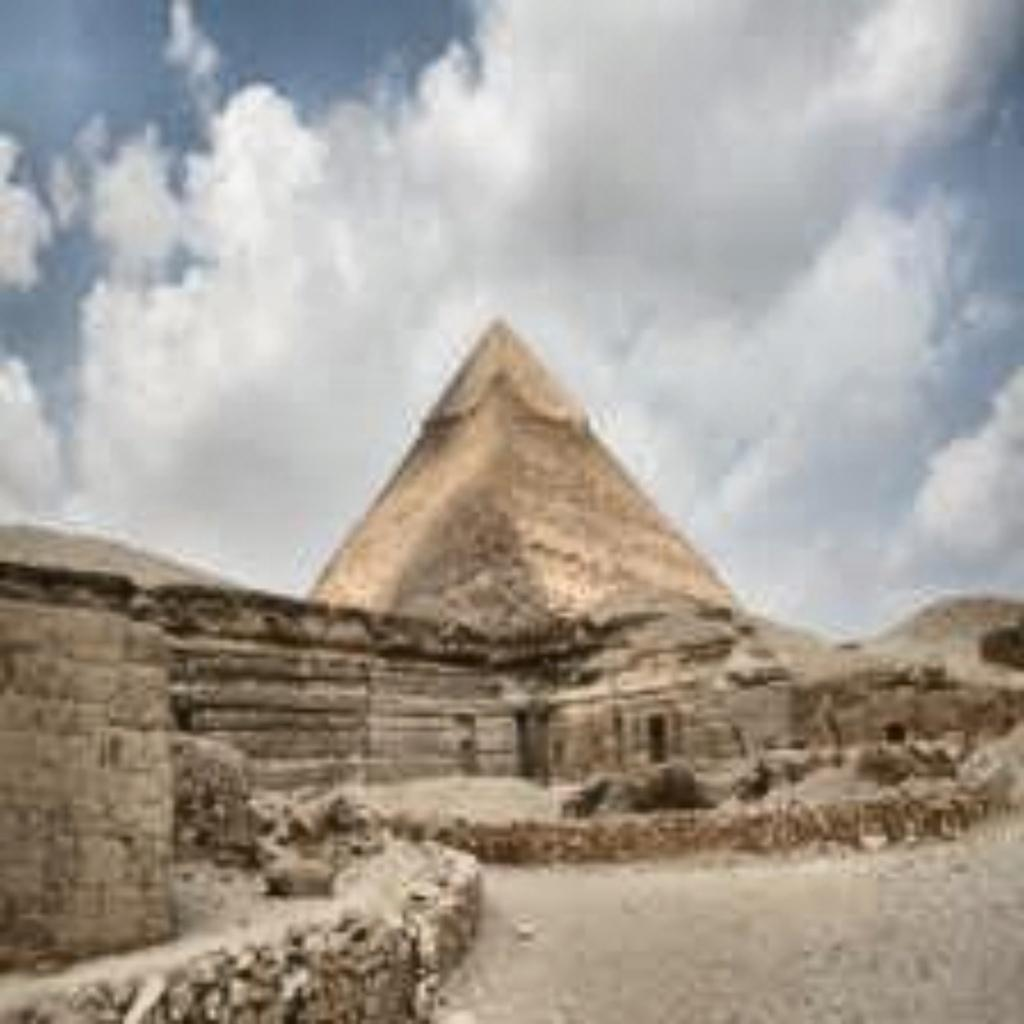Great Pyramids of Giza: (296, 306, 746, 640)
